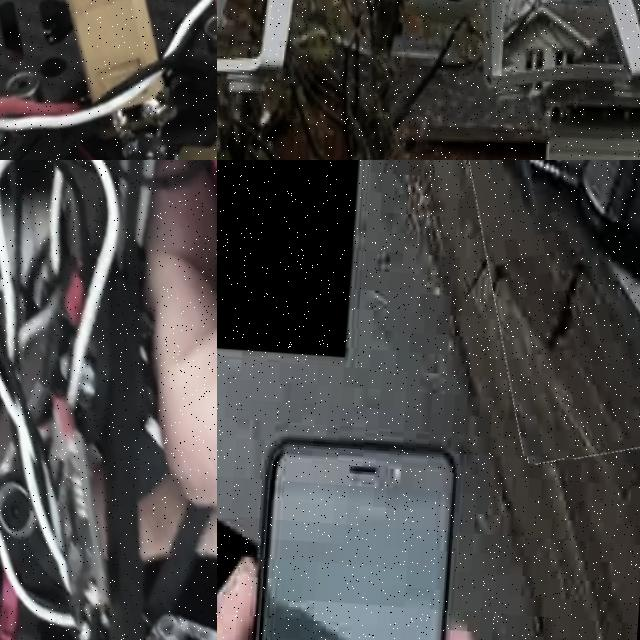drone: (0, 160, 217, 640), (446, 160, 640, 464), (0, 0, 217, 160)
